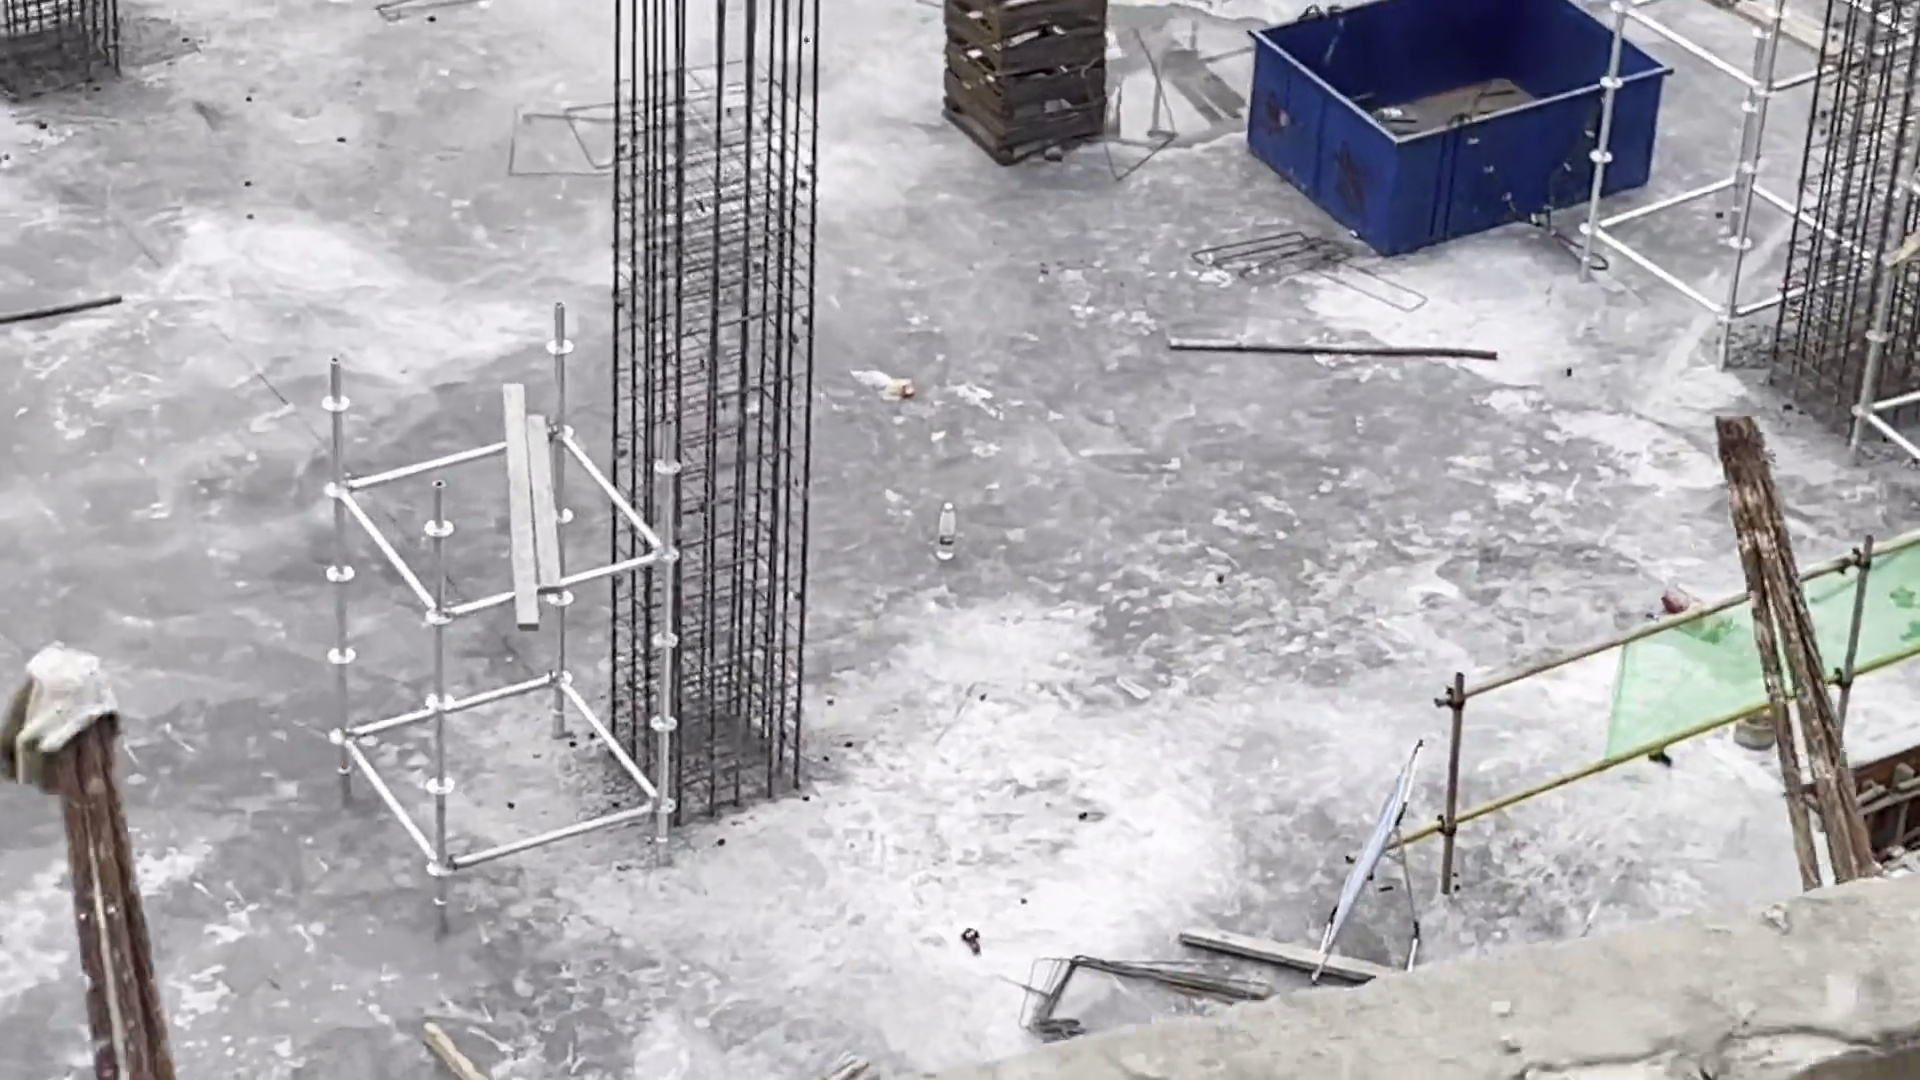hopper: (1240, 1, 1676, 258)
